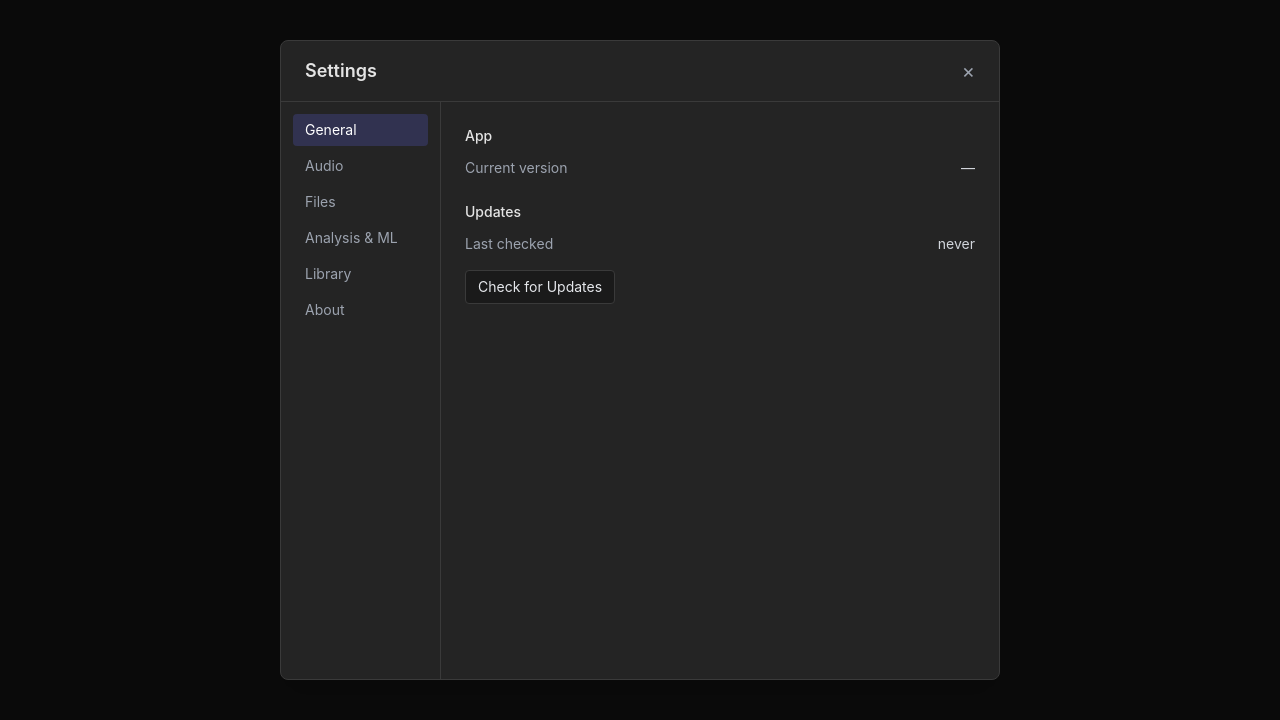
Scenario: SettingsDialog tabs › switches to Audio tab and renders the device picker with system devices
The width and height of the screenshot is (1280, 720).
Click the tab with test id "settings-tab-audio".
click(360, 166)  # box 293,150 -> 428,182
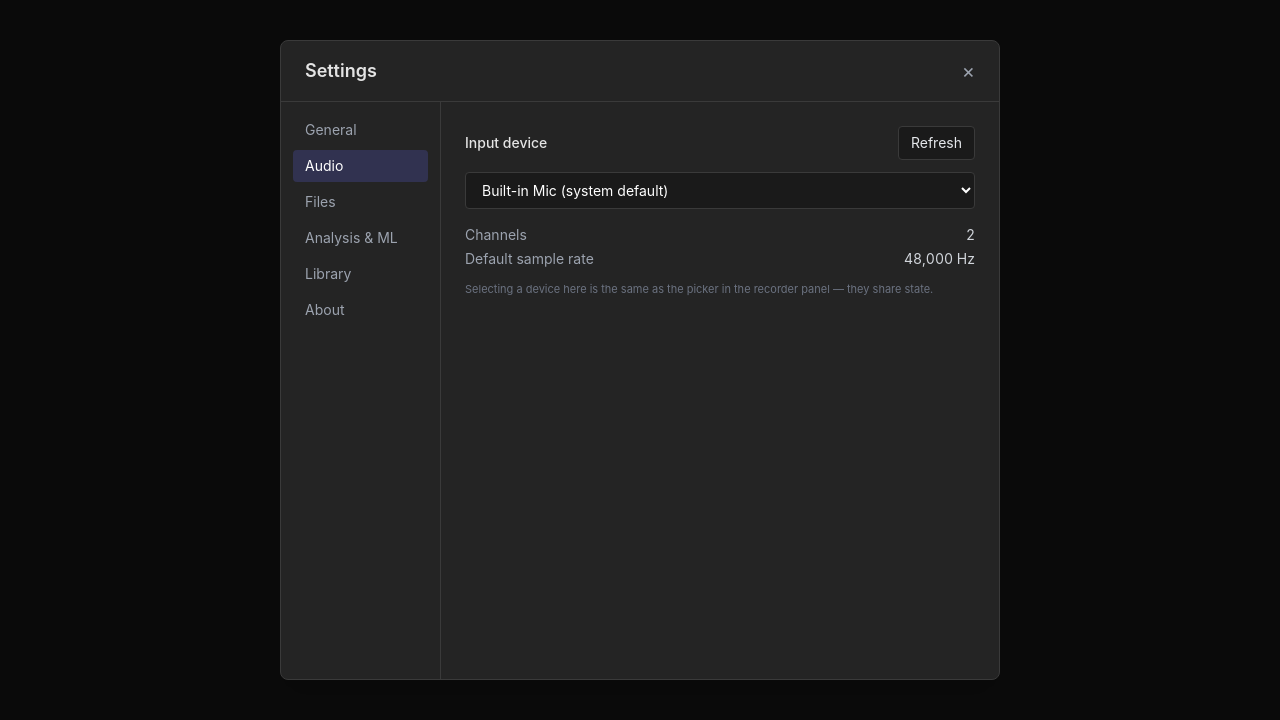
Expected: the dropdown with test id "audio-device-picker" is shown, 465,172 -> 975,209
